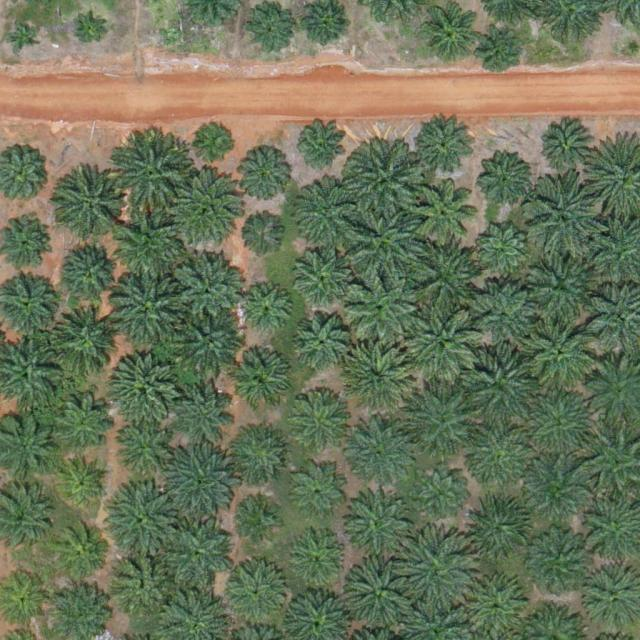Healthy: (528, 179, 606, 258), (394, 531, 472, 610), (408, 305, 486, 384), (345, 142, 423, 221), (114, 139, 192, 218), (348, 201, 426, 279), (525, 392, 596, 463), (341, 344, 412, 415), (176, 174, 247, 245), (527, 320, 598, 390), (464, 349, 534, 420), (411, 242, 481, 313), (342, 420, 412, 491), (344, 560, 414, 631), (294, 177, 365, 247), (224, 561, 294, 632), (164, 519, 234, 590), (165, 445, 235, 516), (115, 213, 186, 283), (110, 276, 180, 347), (108, 351, 178, 422), (113, 488, 183, 559), (44, 389, 115, 459), (49, 307, 119, 378), (524, 254, 594, 324), (463, 422, 533, 492), (410, 388, 480, 458), (348, 272, 418, 342), (344, 490, 414, 560), (176, 308, 246, 378), (173, 254, 243, 324), (527, 461, 590, 524), (464, 574, 527, 637), (415, 186, 478, 249), (414, 116, 477, 179), (62, 240, 125, 303), (527, 528, 590, 590), (474, 284, 536, 347), (230, 351, 293, 413), (175, 375, 237, 438), (59, 176, 122, 238), (115, 552, 177, 614), (473, 501, 528, 556), (291, 533, 346, 588), (295, 393, 350, 448), (294, 249, 349, 304), (237, 150, 292, 205), (238, 283, 293, 338), (233, 427, 288, 482), (112, 423, 167, 478), (51, 526, 106, 581), (421, 5, 476, 60), (295, 314, 349, 369), (297, 471, 344, 519), (248, 5, 295, 53), (544, 127, 591, 174), (482, 157, 529, 204), (481, 230, 528, 277), (419, 465, 466, 512), (304, 3, 351, 50)
Small: (56, 456, 111, 511), (294, 121, 349, 176), (238, 215, 285, 263), (239, 501, 279, 540), (480, 30, 519, 70), (197, 123, 236, 162), (75, 17, 106, 49), (8, 22, 39, 54)
